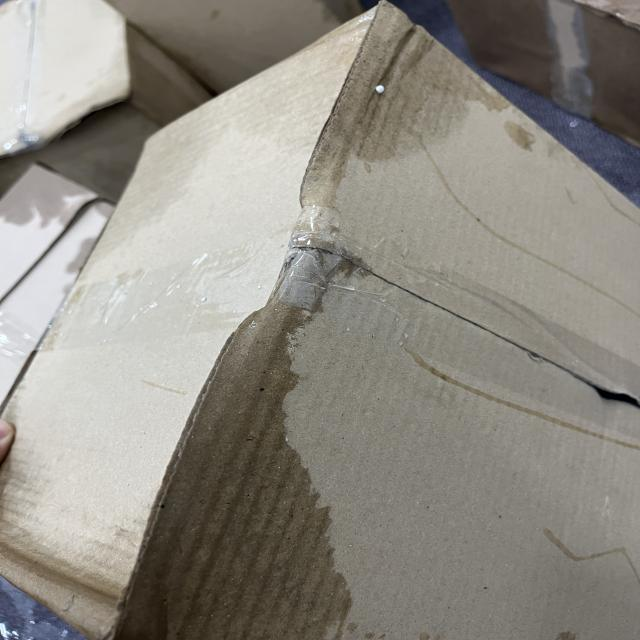wet: (137, 255, 339, 640), (325, 5, 511, 181)
